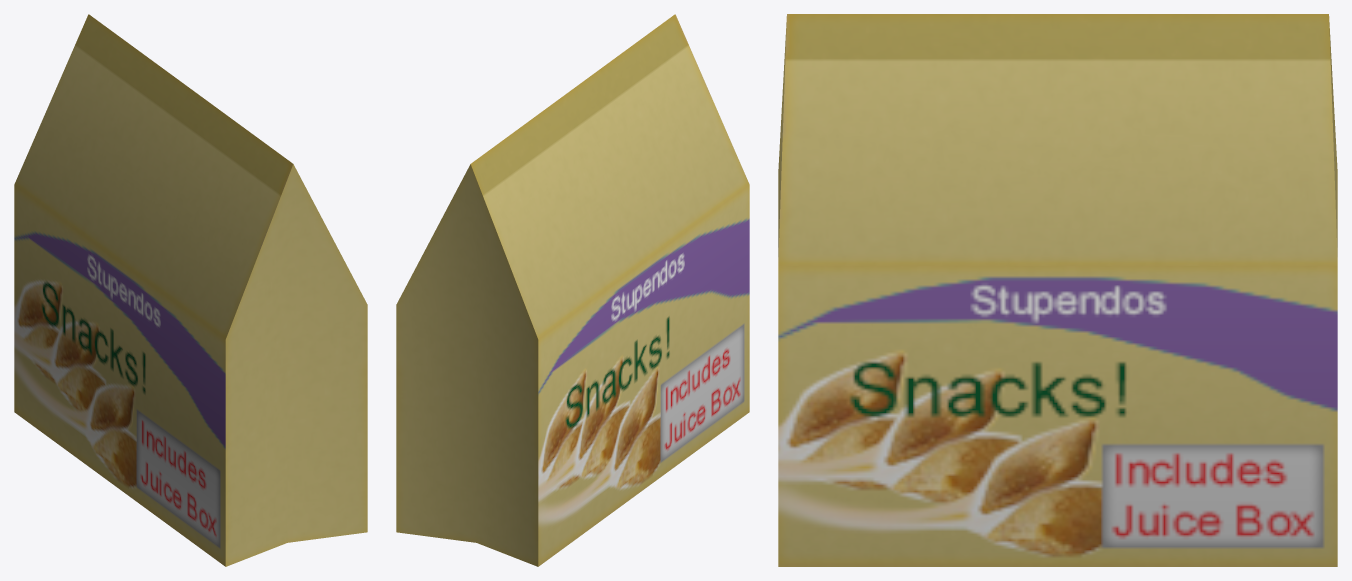
File: SnackBag.FBX
The picture shows the model from 3 angles, left to right: view 1: azimuth 30°, elevation 25°; view 2: azimuth 150°, elevation 25°; view 3: azimuth 270°, elevation 25°; orthographic projection. The views are drawn at different scales.
Parts seen in each view (by area): view 1: SnackBag; view 2: SnackBag; view 3: SnackBag.
Boxes of the visible parts, x1,y1,x2,y2 form: SnackBag: (14,14,367,566); SnackBag: (396,14,749,566); SnackBag: (778,14,1337,566).
Size of the model in its own units: 0.0388 by 0.1 by 0.1.
Materials: 1 (1 with a texture image).
